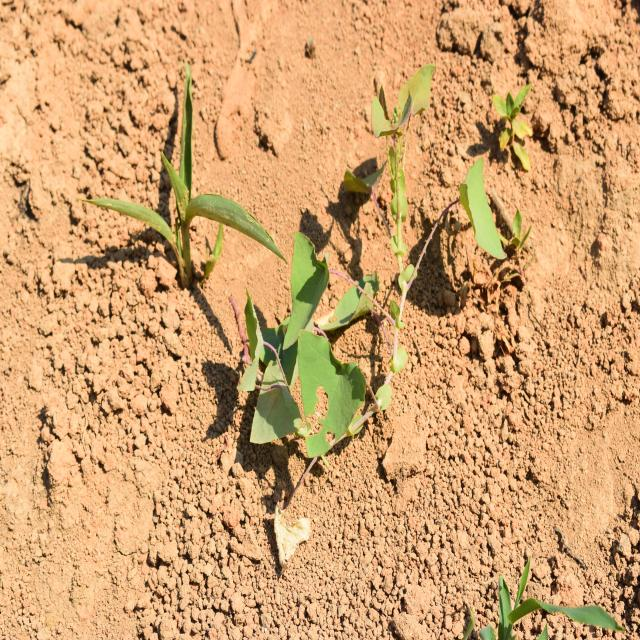Asiatic_Smartweed: (337, 76, 518, 257), (232, 247, 394, 441)
